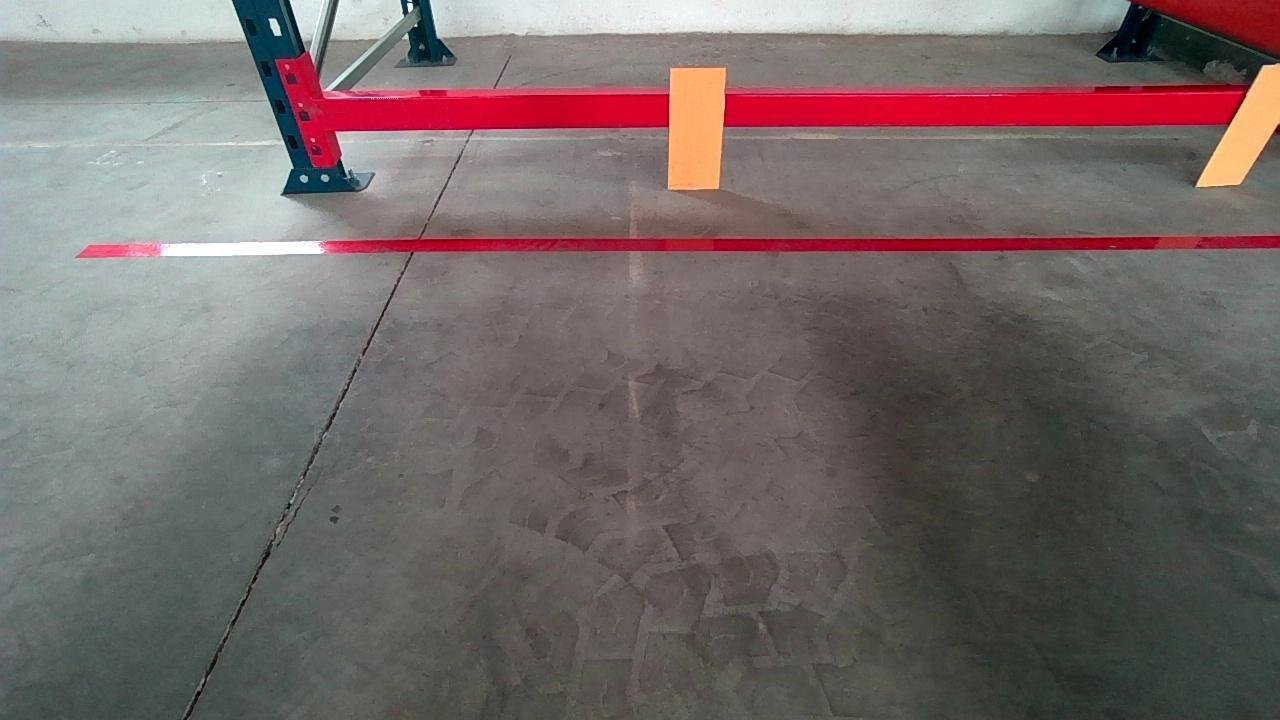h_rack: (325, 82, 1234, 134)
orange_strip: (1198, 64, 1280, 186), (668, 67, 726, 189)
red_line: (89, 225, 1274, 268)
